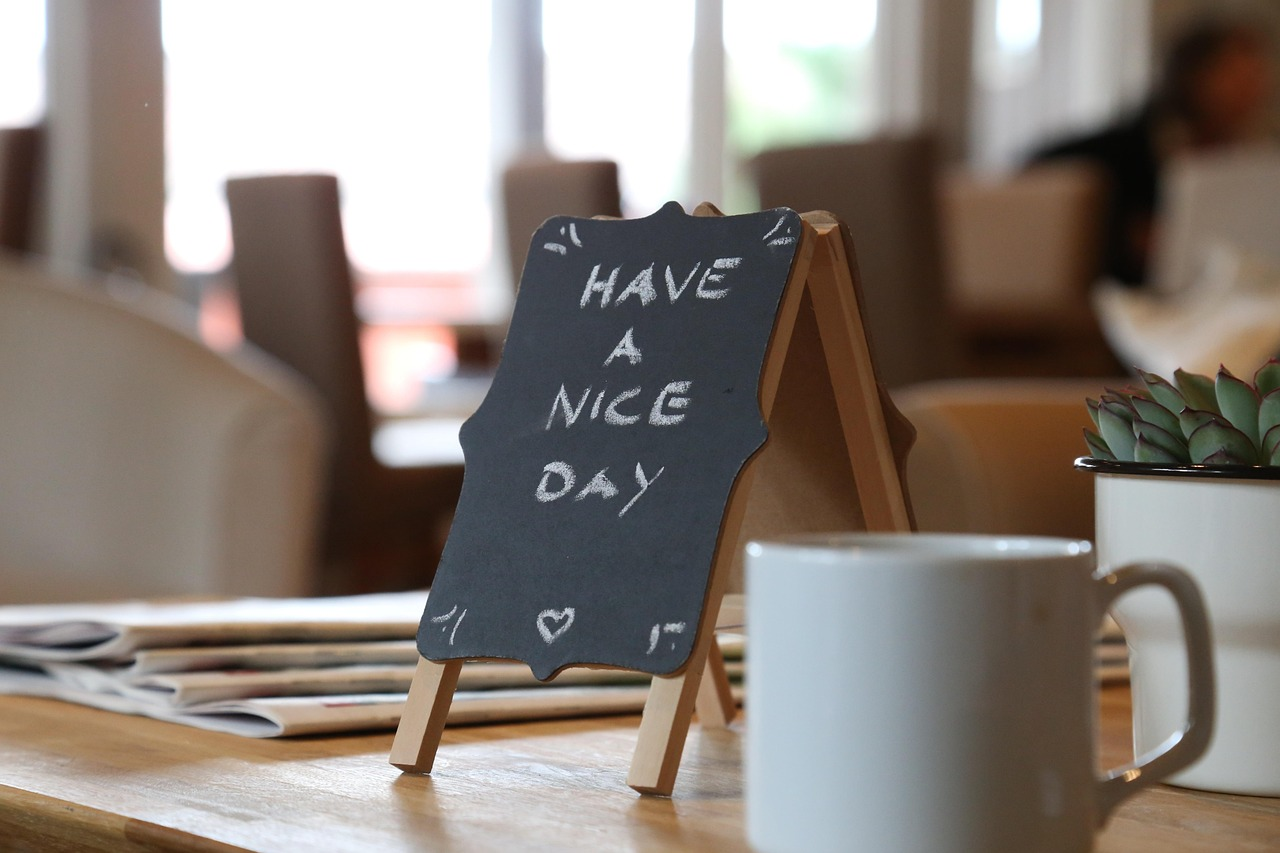mug: (694, 511, 1215, 853)
